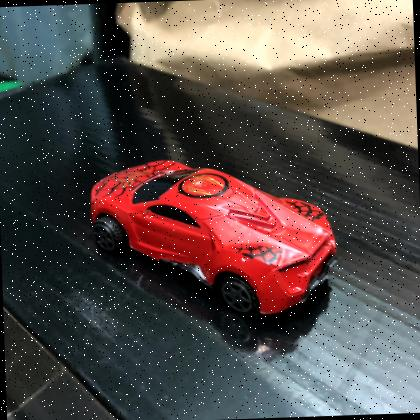Car: (90, 160, 337, 318)
